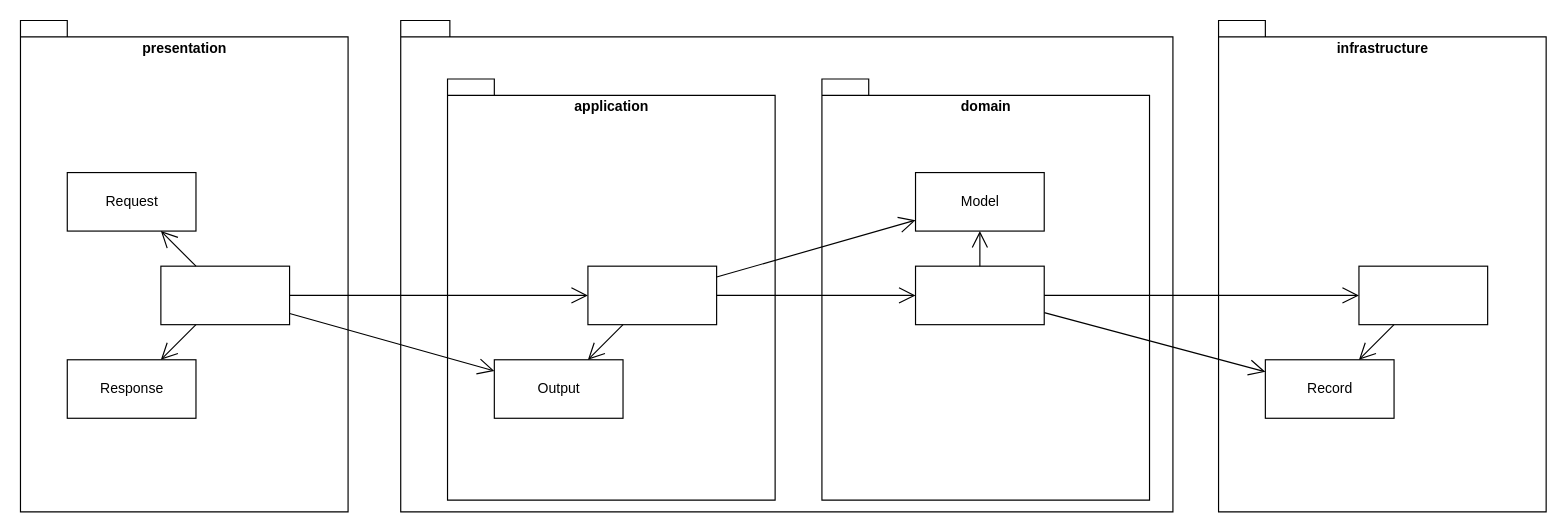
This 1567x532 diagram has some shape labels left out. The box of each missing label's shape, as (x1, y1, x2, y2) in pixels:
business: (400, 19, 1173, 512)
Gateway: (1358, 265, 1488, 325)
Repository: (914, 265, 1044, 325)
Router: (160, 265, 290, 325)
Service: (587, 265, 717, 325)
